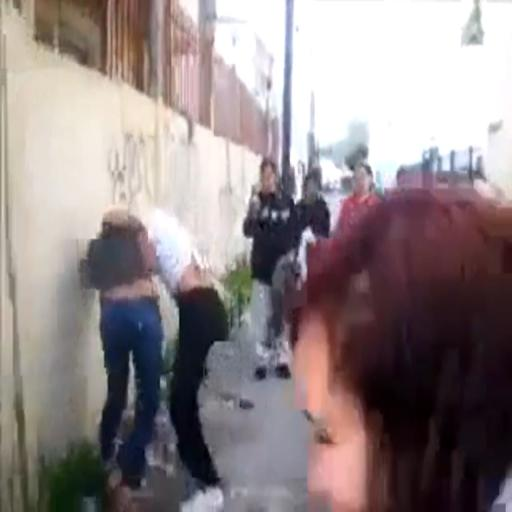violencia: (62, 181, 252, 512)
